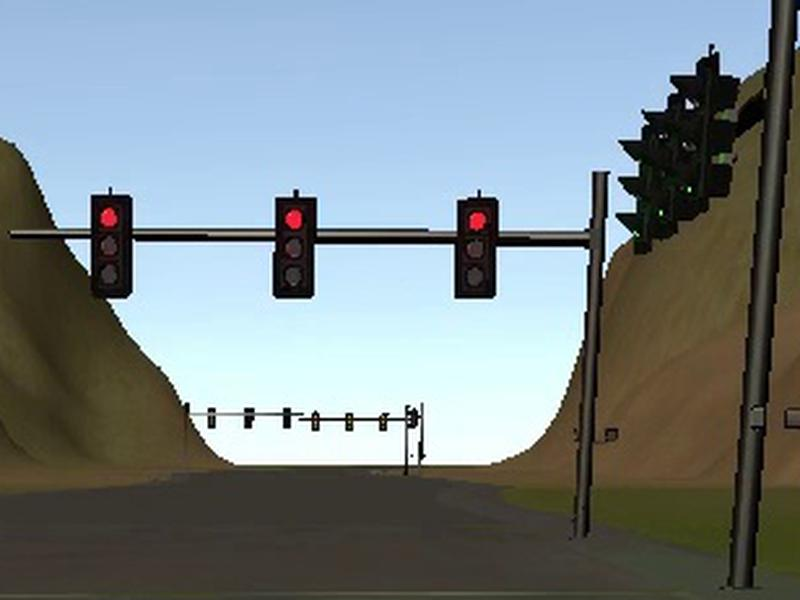Red: (273, 197, 319, 302), (90, 193, 132, 301), (460, 197, 498, 299)
